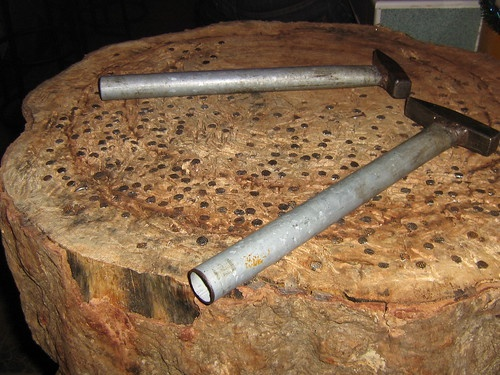hammer: (186, 96, 500, 306), (78, 47, 418, 100)
